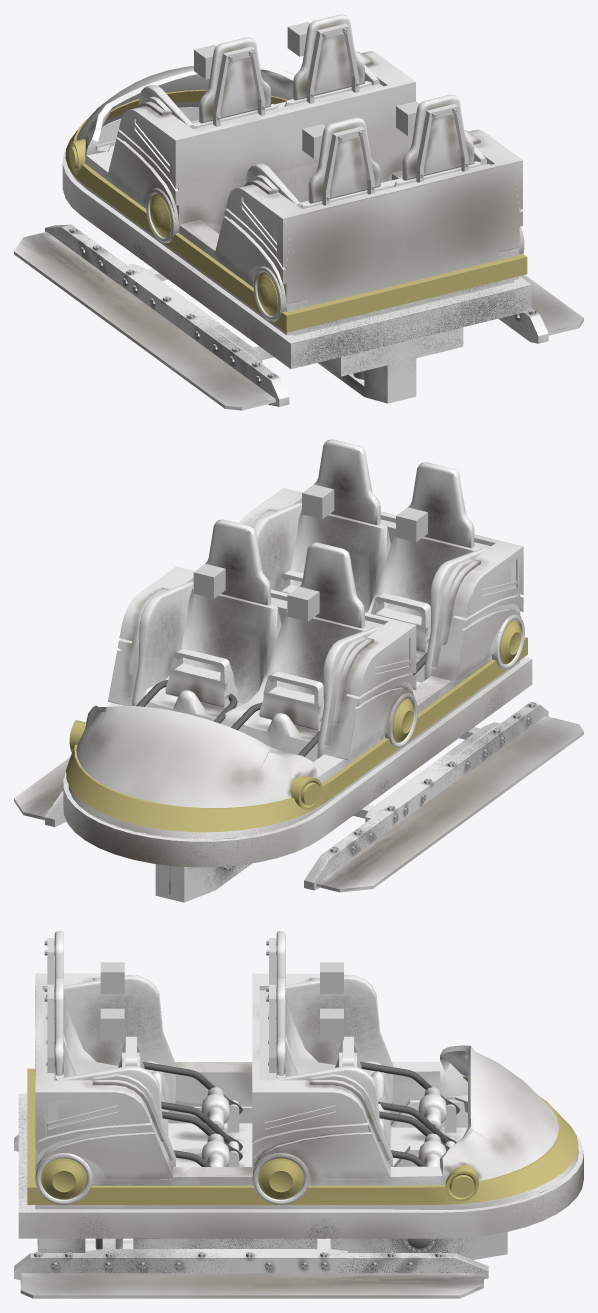
The model's file is Front.dae.
The picture shows the model from 3 angles, top to bottom: view 1: azimuth 30°, elevation 25°; view 2: azimuth 150°, elevation 25°; view 3: azimuth 270°, elevation 25°; orthographic projection.
Visible parts, largest first — view 1: Cube_007, Cube, Cube_002, Plane_002, Plane_001, Plane_003, Plane, Cube_005, Cube_004, Cube_001, View2, View3 (+2 smaller); view 2: Cube_007, Cube_002, Plane_001, Cube, Plane, Plane_002, Plane_003, Harness0, Harness1, Harness2, View3, View1 (+3 smaller); view 3: Cube_007, Cube, Cube_002, Harness2, Harness1, Plane, Plane_003, Cube_005, Cube_004, Harness3, Plane_001, Harness0 (+7 smaller).
Part boxes in pixels (bbox=[...]): Cube_007: bbox=[62, 50, 531, 369]; Cube: bbox=[45, 145, 548, 406]; Cube_002: bbox=[14, 231, 583, 410]; Plane_002: bbox=[394, 94, 481, 186]; Plane_001: bbox=[284, 14, 371, 106]; Plane_003: bbox=[301, 117, 387, 209]; Plane: bbox=[193, 37, 278, 128]; Cube_005: bbox=[193, 23, 382, 131]; Cube_004: bbox=[303, 104, 490, 210]; Cube_001: bbox=[69, 28, 536, 405]; View2: bbox=[302, 124, 325, 158]; View3: bbox=[396, 101, 419, 135]; Cube_007: bbox=[63, 488, 532, 867]; Cube_002: bbox=[14, 716, 583, 892]; Plane_001: bbox=[142, 519, 281, 726]; Cube: bbox=[45, 681, 548, 902]; Plane: bbox=[230, 542, 369, 761]; Plane_002: bbox=[290, 439, 390, 613]; Plane_003: bbox=[379, 462, 479, 682]; Harness0: bbox=[136, 648, 237, 723]; Harness1: bbox=[231, 671, 323, 756]; Harness2: bbox=[371, 593, 430, 675]; View3: bbox=[302, 484, 334, 519]; View1: bbox=[193, 564, 225, 598]; Cube_007: bbox=[18, 973, 583, 1238]; Cube: bbox=[14, 1099, 507, 1280]; Cube_002: bbox=[20, 1273, 483, 1298]; Harness2: bbox=[118, 1036, 242, 1150]; Harness1: bbox=[335, 1036, 459, 1143]; Plane: bbox=[276, 931, 390, 1130]; Plane_003: bbox=[54, 931, 168, 1129]; Cube_005: bbox=[259, 938, 392, 1113]; Cube_004: bbox=[42, 938, 171, 1112]; Harness3: bbox=[162, 1111, 242, 1166]; Plane_001: bbox=[276, 977, 390, 1148]; Harness0: bbox=[379, 1111, 449, 1166].
Bounding box in the file's own units: 1.76 × 2.39 × 1.37.
10 materials, 8 textured.
